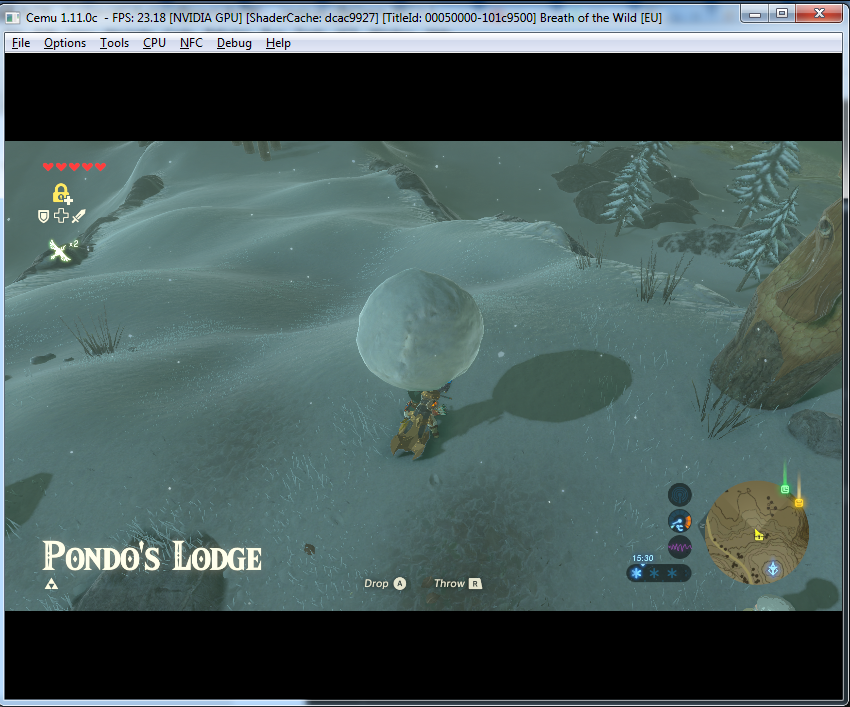link: (388, 389, 460, 463)
snowball: (349, 266, 505, 391)
totem: (716, 182, 841, 420)
